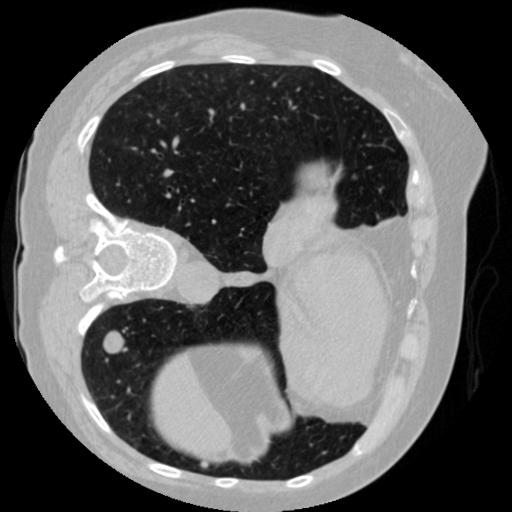nodule: (199, 458, 211, 470)
